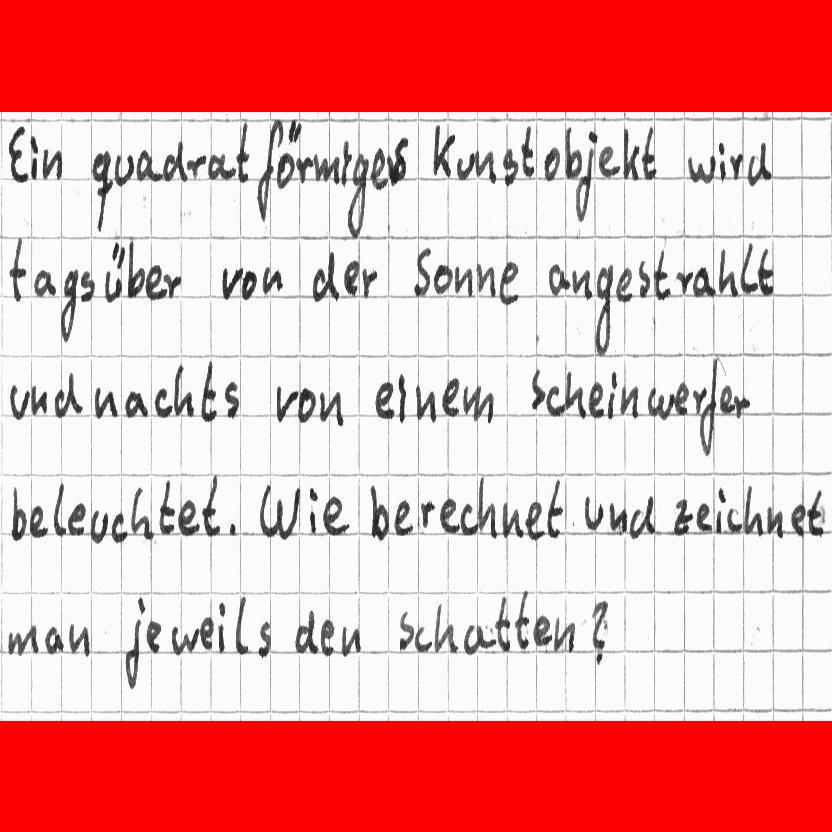Char: (253, 124, 281, 218), (258, 480, 299, 542), (571, 131, 595, 222), (344, 148, 368, 239), (274, 118, 302, 189), (87, 155, 114, 221), (699, 362, 718, 455), (594, 263, 612, 356), (58, 267, 79, 343), (366, 480, 390, 546), (6, 237, 30, 301), (124, 608, 143, 688), (461, 381, 494, 426), (102, 240, 124, 305), (310, 251, 338, 302), (588, 597, 610, 661), (430, 122, 454, 179), (54, 369, 82, 417), (433, 598, 456, 655), (199, 474, 220, 536), (475, 475, 495, 539), (172, 361, 194, 419), (629, 494, 656, 540), (5, 125, 26, 184), (745, 138, 770, 187), (199, 358, 218, 422), (512, 589, 531, 652), (125, 239, 145, 298), (562, 365, 584, 418), (497, 257, 520, 307), (410, 246, 431, 300), (130, 483, 151, 537), (715, 246, 736, 299), (545, 479, 564, 537), (5, 625, 38, 658), (157, 478, 175, 538), (461, 620, 491, 656), (294, 607, 316, 656), (322, 494, 346, 538), (234, 121, 251, 183), (317, 386, 342, 428), (743, 483, 762, 537), (9, 484, 27, 541), (389, 134, 410, 182), (7, 382, 32, 422), (414, 382, 437, 425), (469, 261, 494, 300), (495, 596, 512, 653), (162, 141, 184, 184), (234, 593, 249, 656), (641, 123, 657, 182), (688, 150, 714, 186), (756, 243, 773, 298), (275, 382, 296, 426), (652, 248, 669, 302), (92, 386, 117, 422), (551, 617, 576, 653), (375, 377, 395, 422), (472, 146, 495, 185), (219, 265, 243, 302), (499, 499, 520, 541), (521, 124, 537, 179), (392, 498, 414, 537), (524, 499, 544, 541), (740, 244, 756, 296), (581, 496, 604, 532), (337, 623, 360, 659), (441, 375, 460, 418), (32, 266, 56, 300), (622, 127, 637, 181), (51, 482, 66, 535), (169, 624, 193, 657), (67, 620, 89, 656), (178, 498, 198, 537), (89, 505, 109, 544), (569, 266, 591, 300), (296, 386, 315, 425), (672, 498, 692, 535), (223, 379, 241, 420), (261, 264, 284, 296), (810, 490, 825, 538), (619, 383, 638, 420), (440, 496, 458, 535), (317, 616, 334, 657), (370, 147, 387, 188), (255, 617, 272, 658), (598, 144, 617, 180), (317, 153, 339, 184), (650, 389, 672, 420), (395, 372, 408, 424), (237, 268, 258, 300), (306, 485, 319, 536), (209, 152, 231, 182), (588, 379, 604, 420), (714, 485, 727, 535), (616, 266, 634, 302), (501, 149, 519, 185), (147, 265, 165, 301), (433, 263, 452, 297), (547, 263, 566, 297), (125, 390, 148, 418), (42, 149, 62, 181), (44, 623, 64, 655), (530, 369, 545, 411), (115, 149, 133, 184), (342, 258, 357, 300), (764, 503, 783, 536), (694, 265, 713, 298), (215, 600, 226, 656), (790, 502, 807, 538), (360, 265, 378, 299), (609, 502, 628, 534), (146, 617, 162, 655), (29, 502, 46, 537), (458, 501, 475, 536), (110, 508, 127, 543), (153, 386, 171, 419), (160, 271, 182, 298), (542, 147, 559, 181), (69, 502, 86, 536), (694, 500, 711, 534), (198, 616, 214, 652), (546, 383, 562, 419), (399, 610, 413, 651), (534, 615, 550, 650), (80, 267, 96, 302), (674, 379, 689, 416), (454, 263, 469, 299), (419, 499, 435, 531), (137, 150, 154, 180), (637, 260, 650, 297), (607, 371, 617, 418), (733, 392, 751, 418), (299, 152, 314, 183), (675, 268, 691, 297), (189, 153, 205, 181), (33, 388, 49, 416), (691, 387, 707, 415), (726, 505, 741, 534), (454, 152, 470, 179), (416, 628, 432, 654), (719, 382, 732, 414), (30, 134, 39, 180), (729, 152, 744, 179), (717, 144, 728, 180), (227, 520, 240, 538)
